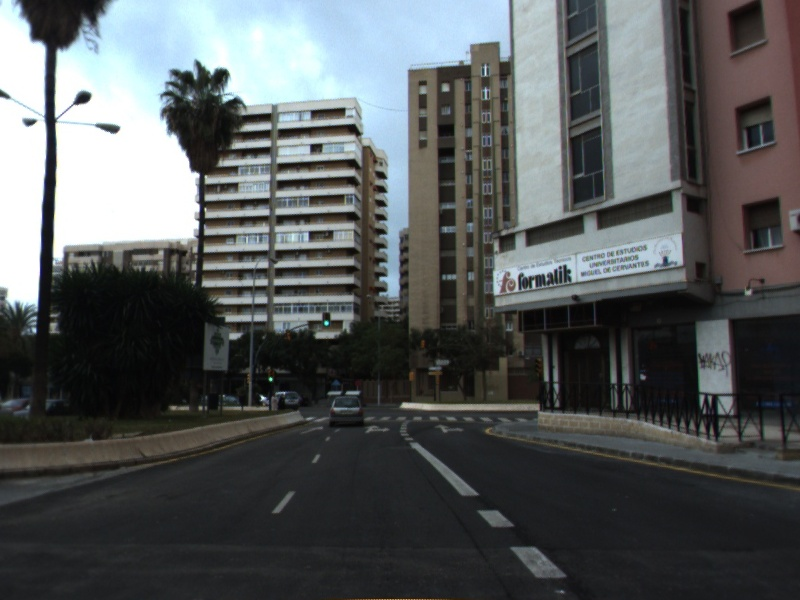STRAIGHT: (298, 424, 325, 436)
STRAIGHT_RIGHT: (432, 422, 467, 435), (362, 423, 393, 435)
